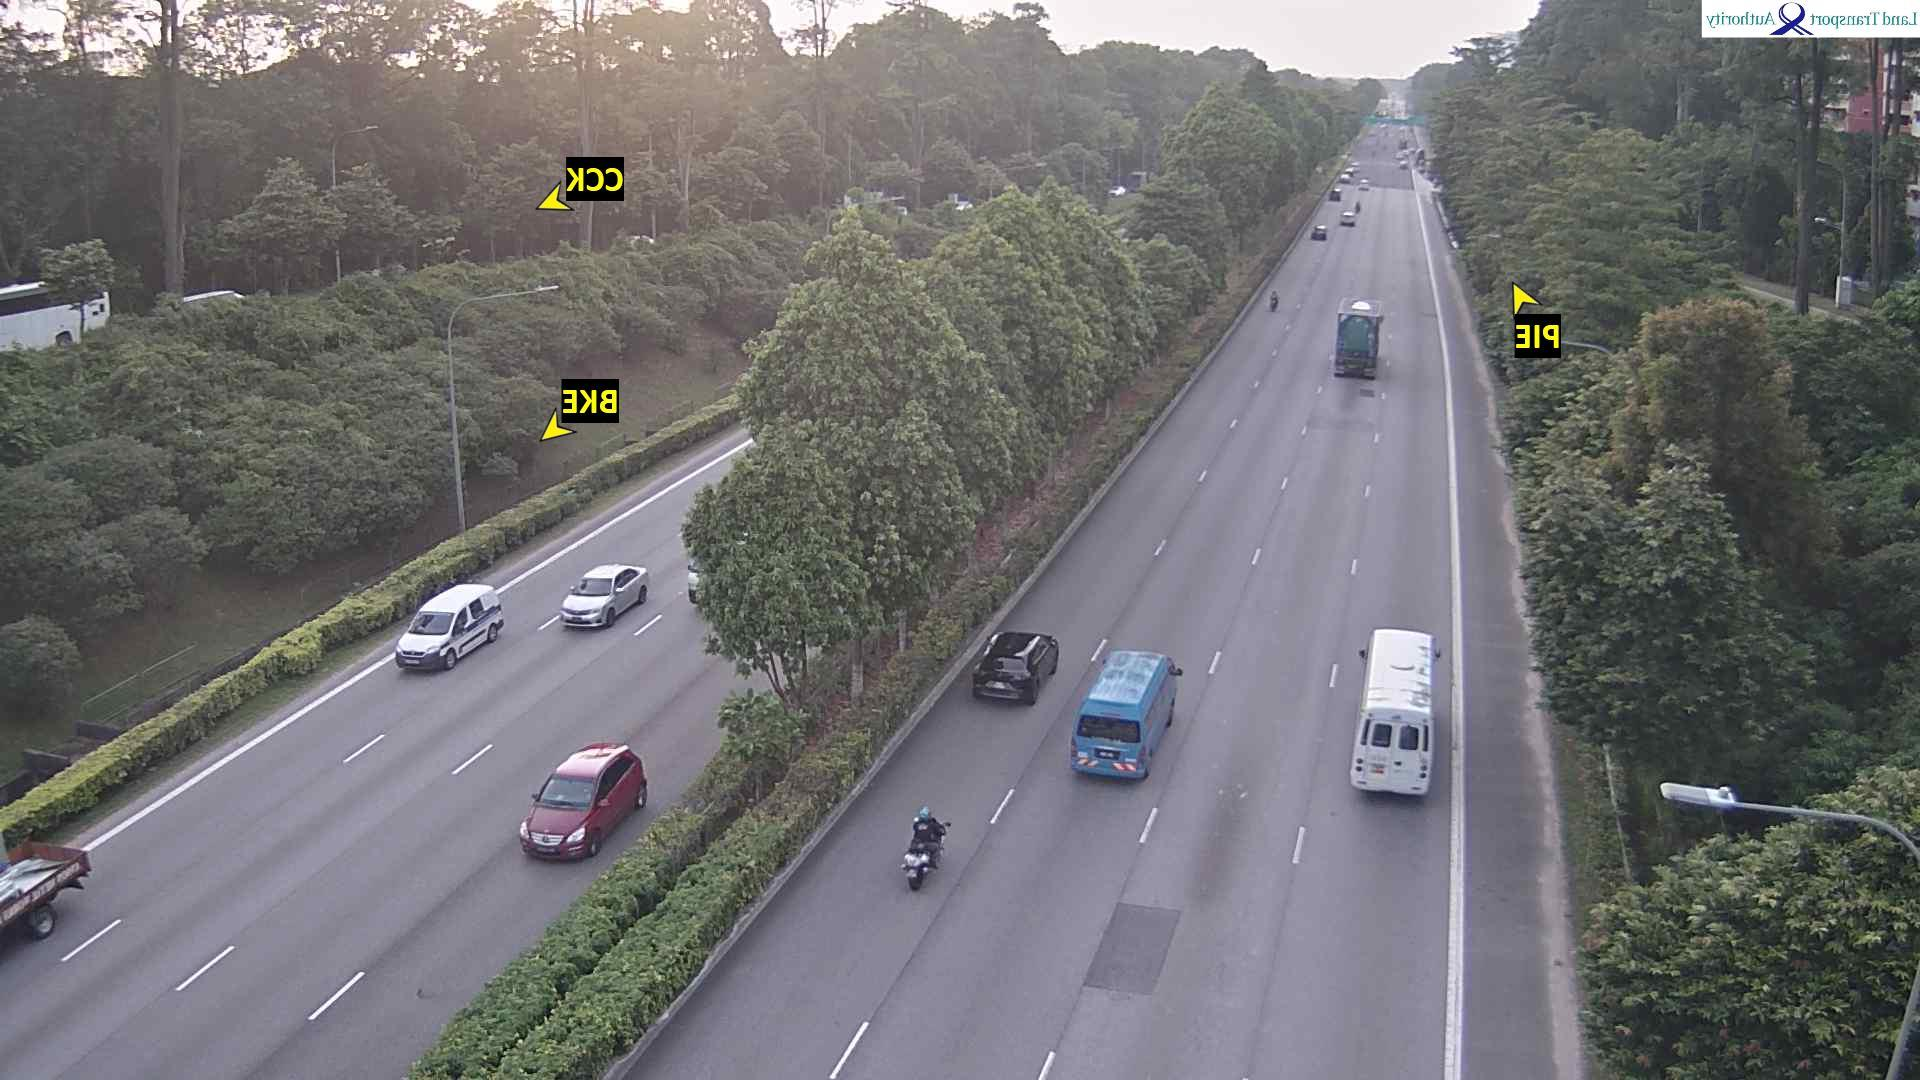incoming: (509, 779, 611, 860), (390, 611, 465, 671), (556, 579, 622, 630)
